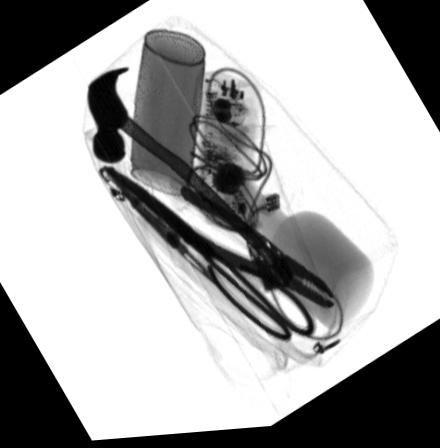Hammer: (84, 69, 261, 252)
Knife: (111, 177, 238, 307)
Pliers: (168, 187, 335, 315)
Scissors: (101, 166, 315, 348)
